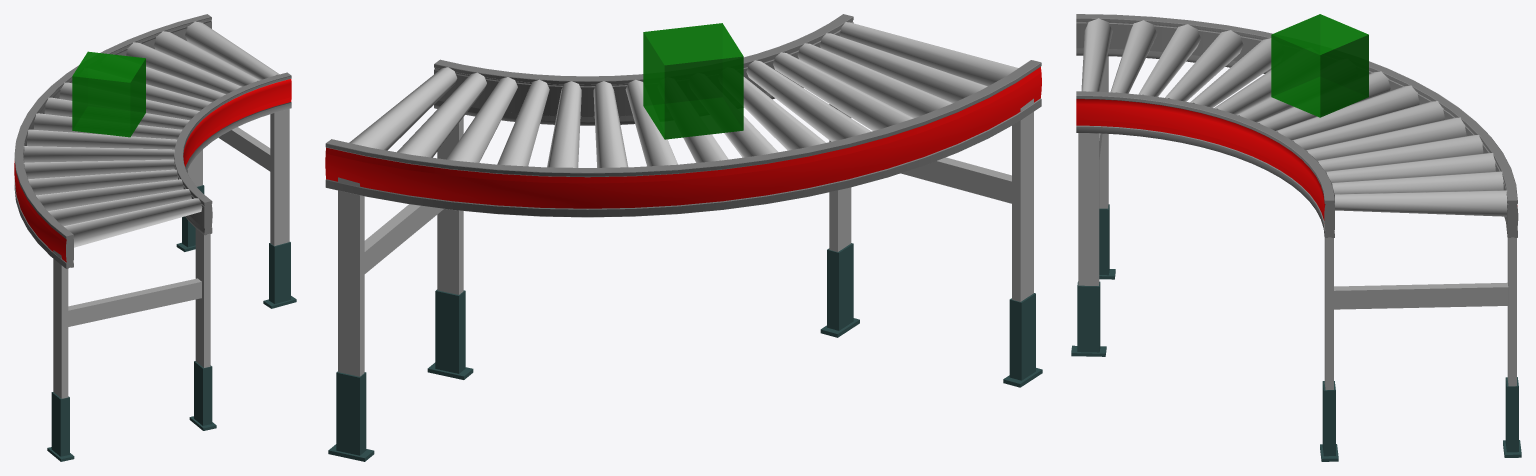
The model's file is trun.obj.
3 views of the same model, side by side, from view 1: azimuth 30°, elevation 25°; view 2: azimuth 150°, elevation 25°; view 3: azimuth 270°, elevation 25° (orthographic). The views are drawn at different scales.
Parts seen in each view (by area): view 1: CurveRollerConveyor1, StartSupport, EndSupport, LoadCreator1; view 2: CurveRollerConveyor1, EndSupport, StartSupport, LoadCreator1; view 3: CurveRollerConveyor1, EndSupport, LoadCreator1, StartSupport.
Boxes of the visible parts, left/top/right/bottom form: CurveRollerConveyor1: left=14, top=14, right=291, bottom=268; StartSupport: left=47, top=228, right=216, bottom=461; EndSupport: left=176, top=109, right=296, bottom=308; LoadCreator1: left=72, top=51, right=145, bottom=137; CurveRollerConveyor1: left=325, top=14, right=1041, bottom=217; EndSupport: left=328, top=117, right=473, bottom=461; StartSupport: left=820, top=98, right=1042, bottom=387; LoadCreator1: left=643, top=23, right=743, bottom=139; CurveRollerConveyor1: left=1076, top=14, right=1518, bottom=237; EndSupport: left=1320, top=237, right=1521, bottom=461; LoadCreator1: left=1271, top=14, right=1368, bottom=117; StartSupport: left=1071, top=56, right=1115, bottom=356.
Size of the model in its own units: 1.31 by 1.03 by 1.31.
